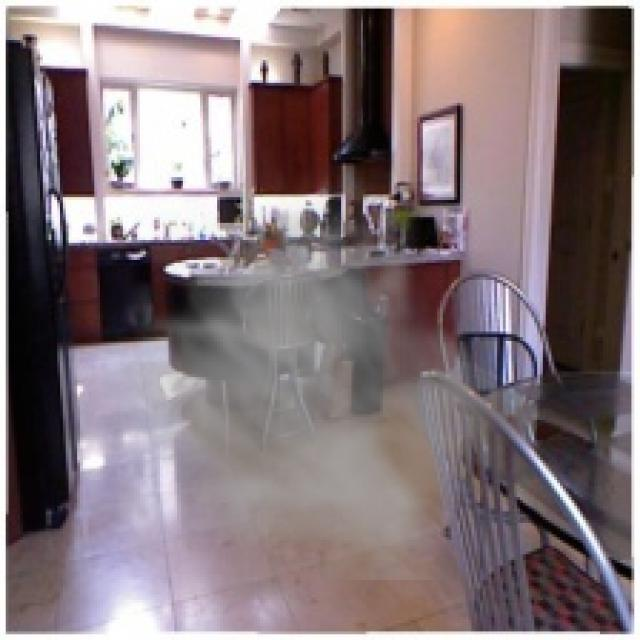smoke: (103, 163, 523, 580)
